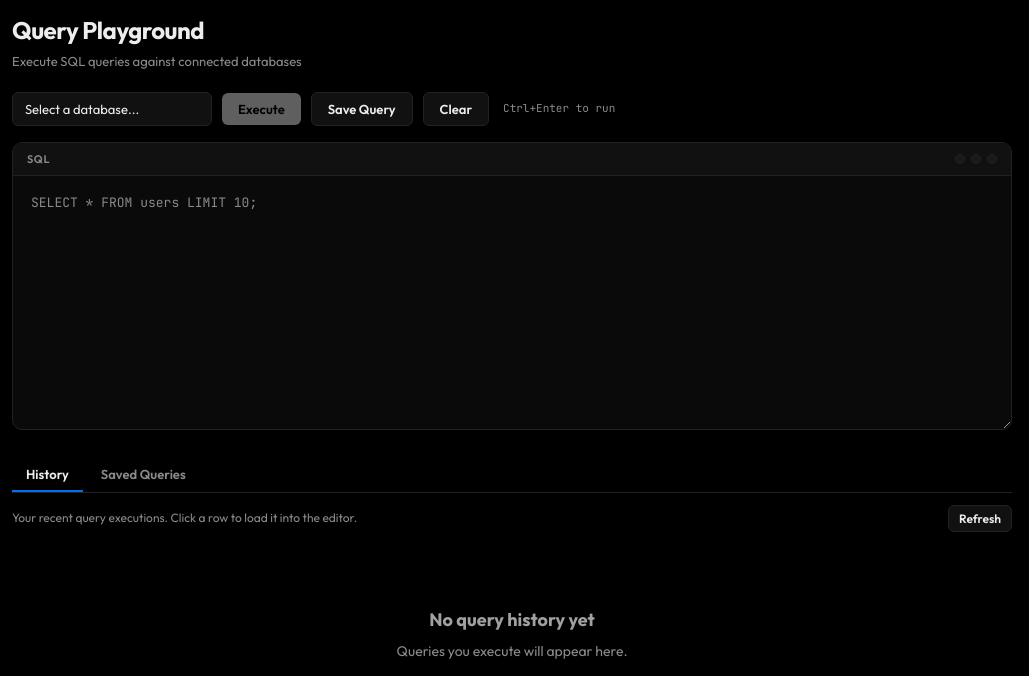
Test: QueryPlayground — saved queries panel › load button fills the editor with the saved query
The width and height of the screenshot is (1029, 676).
Click the tab "Saved Queries". click: (143, 475)
box: x1=87 y1=458 x2=200 y2=492
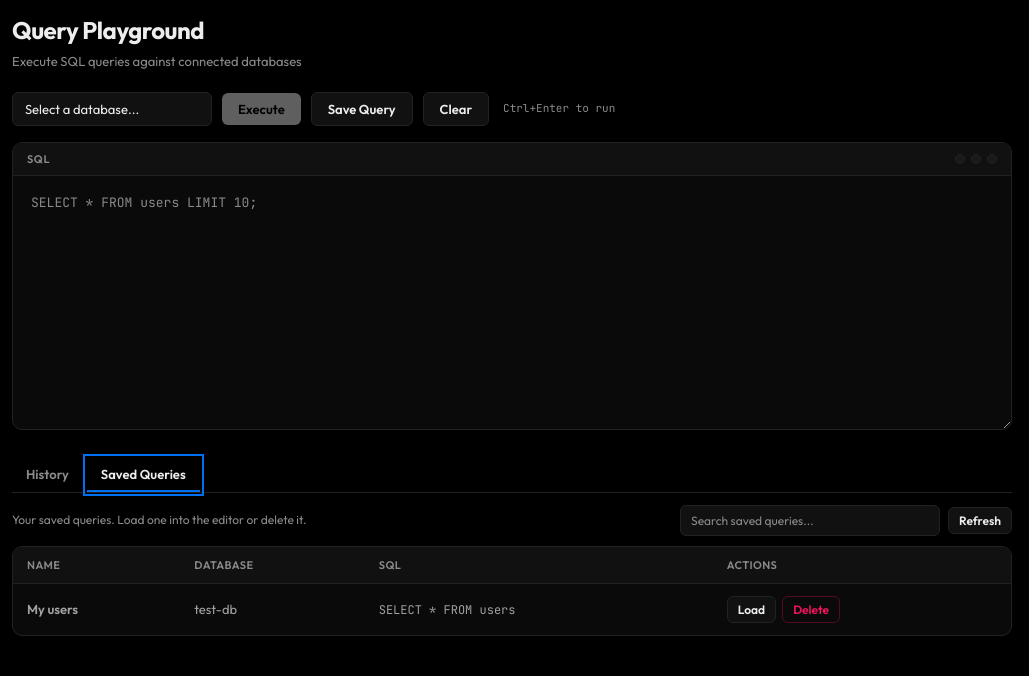
Now the button named "Load saved query \"My users\"" is shown
Click the button named "Load saved query \"My users\"". click: (751, 610)
box: x1=727 y1=596 x2=776 y2=623
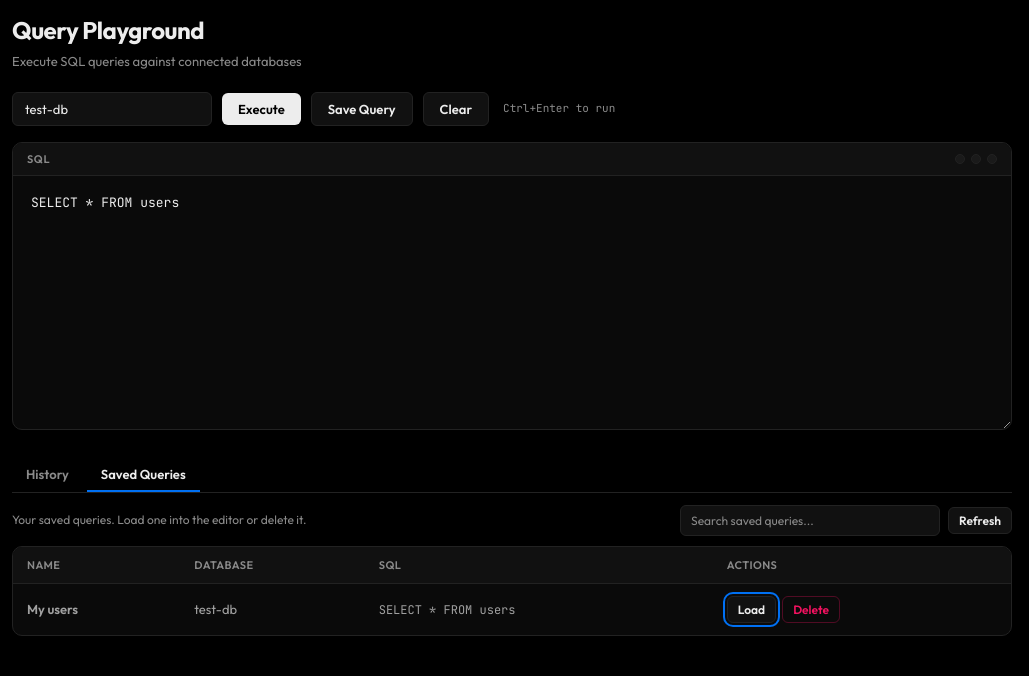
Now the text box named "SQL editor" holds "SELECT * FROM users", box x1=13 y1=176 x2=1011 y2=429
Now the dropdown shows "test-db", box x1=12 y1=92 x2=212 y2=126
